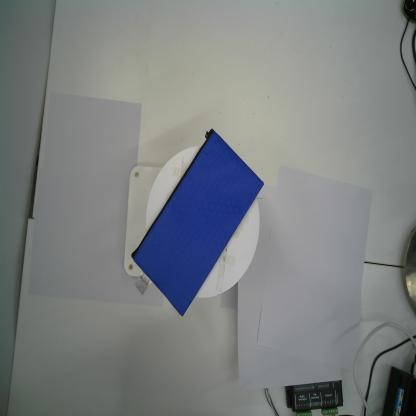Stationery: (132, 128, 266, 314)
